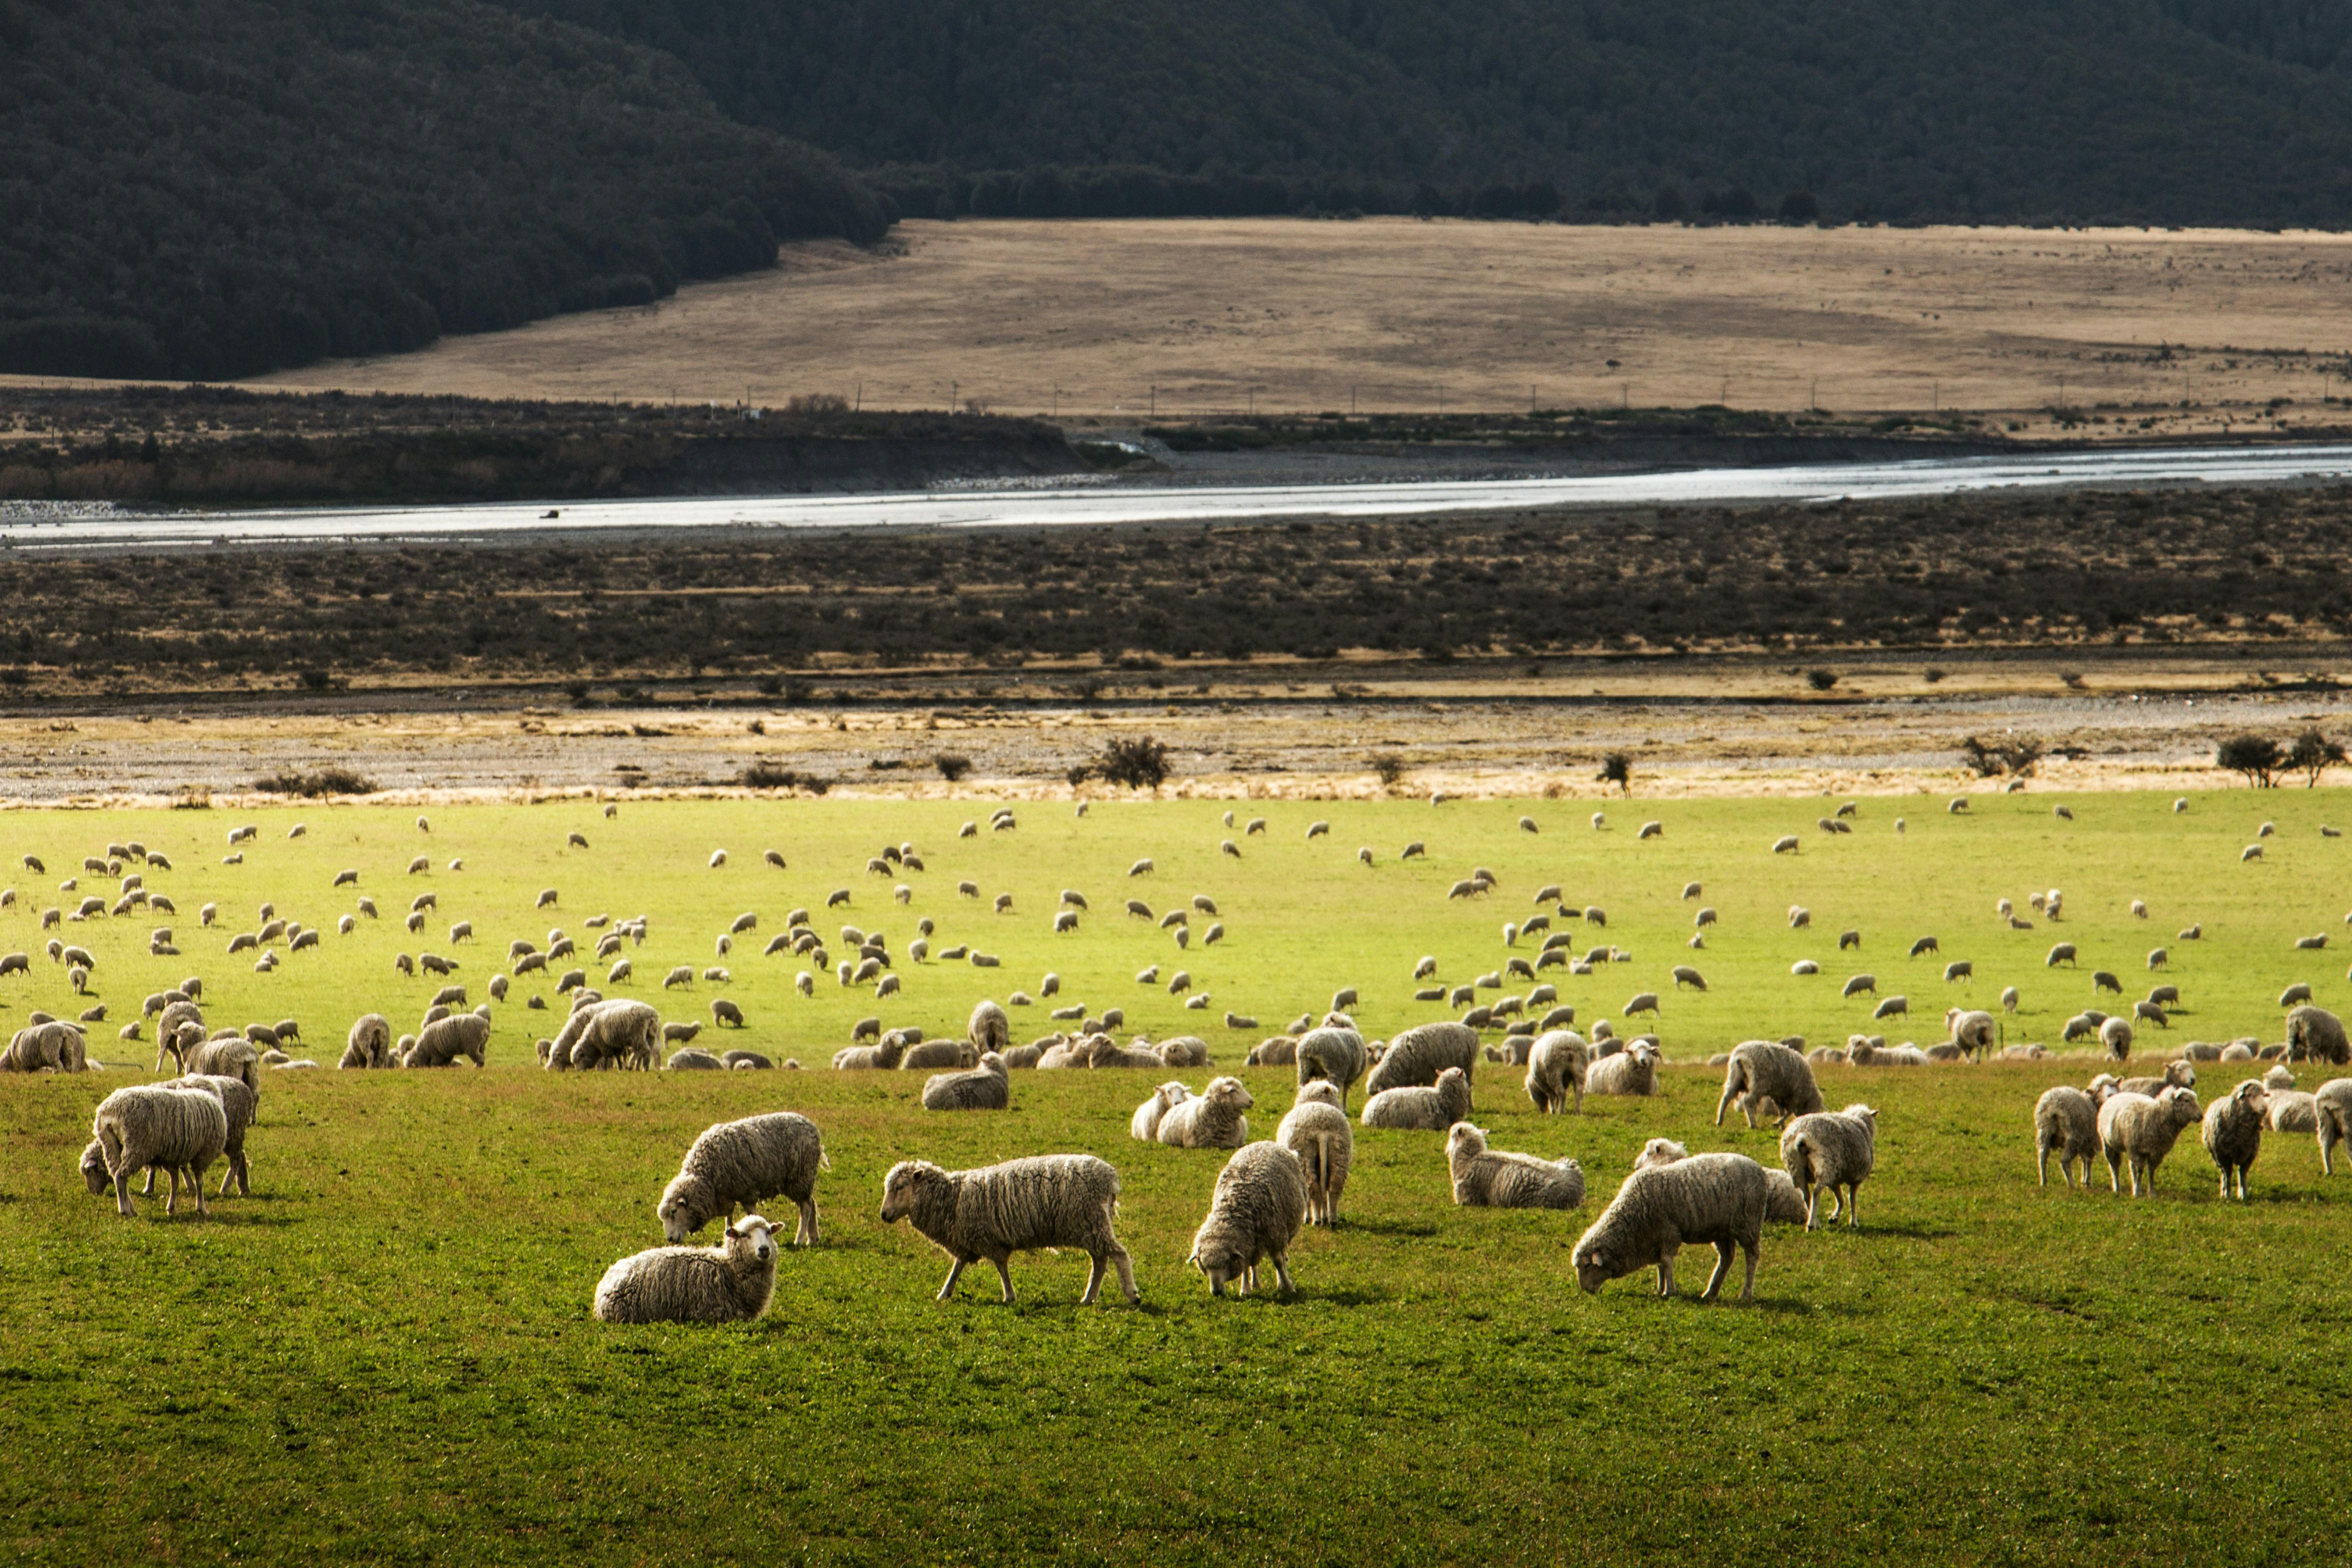sheep: (879, 1152, 1143, 1309), (1569, 1150, 1771, 1307), (655, 1111, 823, 1249), (80, 1072, 256, 1199), (591, 1216, 787, 1328), (92, 1070, 228, 1219), (1188, 1139, 1307, 1305), (1777, 1100, 1880, 1229), (2095, 1085, 2205, 1199), (1444, 1122, 1586, 1208), (1274, 1081, 1352, 1225), (1713, 1038, 1827, 1130), (2033, 1070, 2125, 1184), (168, 1019, 262, 1124), (2201, 1079, 2272, 1206), (1363, 1064, 1472, 1133), (548, 1004, 651, 1075), (1156, 1075, 1257, 1145), (570, 1001, 662, 1079), (1524, 1025, 1592, 1120), (922, 1049, 1012, 1113), (1294, 1012, 1371, 1081), (402, 1017, 494, 1072), (1586, 1040, 1666, 1098), (4, 1023, 90, 1075), (2285, 1006, 2352, 1070), (1133, 1079, 1199, 1143), (2312, 1077, 2352, 1178), (1090, 1032, 1165, 1077), (1945, 1006, 1999, 1068), (340, 1012, 391, 1070), (1848, 1036, 1930, 1068), (969, 997, 1010, 1057), (2102, 1017, 2134, 1062)
